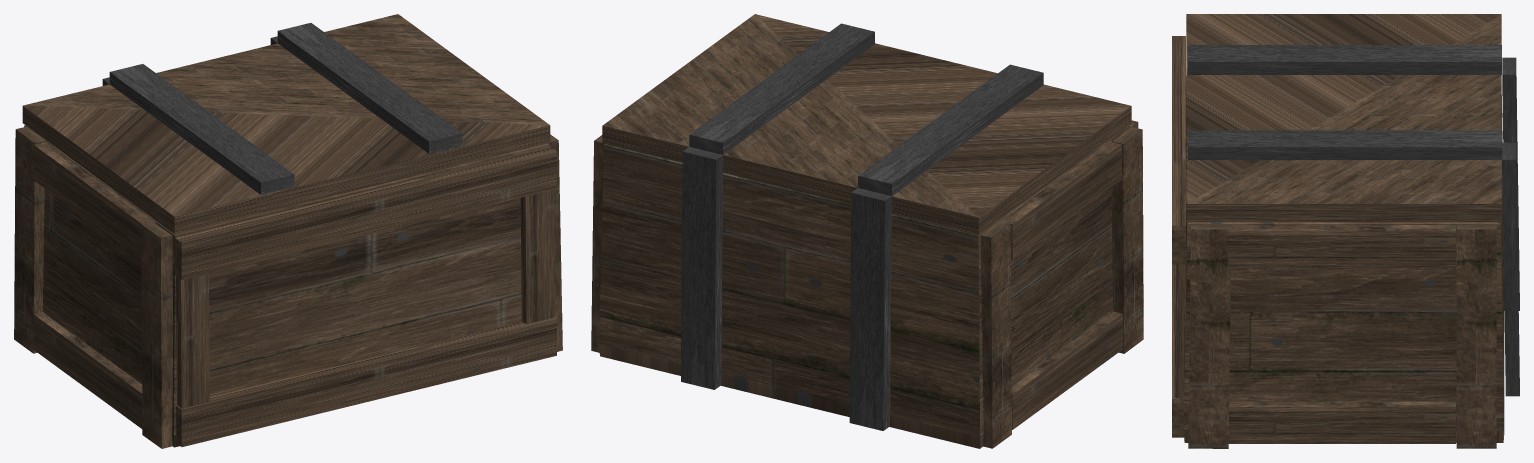
File: wooden_box.Unity.fbx
The picture shows the model from 3 angles, left to right: view 1: azimuth 30°, elevation 25°; view 2: azimuth 150°, elevation 25°; view 3: azimuth 270°, elevation 25°; orthographic projection. The views are drawn at different scales.
Parts seen in each view (by area): view 1: box, Lid, frontHinge1, frontHinge2, topHinge2, topHinge1, leftHinge2, leftHinge1, leftHinge3, leftHinge4, frontHinge3, frontHinge4 (+1 smaller); view 2: box, Lid, backHinge1, backHinge2, topHinge1, topHinge2, leftHinge1, leftHinge2, leftHinge3, leftHinge4, rightHinge1; view 3: Lid, box, rightHinge3, rightHinge4, topHinge2, topHinge1, rightHinge1, rightHinge2, backHinge2, frontHinge1, backHinge1, frontHinge4 (+1 smaller).
Boxes of the visible parts, x1=… form: box: x1=24, y1=125, x2=548, y2=447; Lid: x1=22, y1=14, x2=550, y2=234; frontHinge1: x1=175, y1=146, x2=556, y2=280; frontHinge2: x1=176, y1=316, x2=556, y2=446; topHinge2: x1=277, y1=23, x2=462, y2=153; topHinge1: x1=109, y1=64, x2=294, y2=194; leftHinge2: x1=141, y1=221, x2=172, y2=448; leftHinge1: x1=14, y1=126, x2=45, y2=353; leftHinge3: x1=33, y1=142, x2=155, y2=258; leftHinge4: x1=33, y1=312, x2=142, y2=428; frontHinge3: x1=176, y1=274, x2=209, y2=408; frontHinge4: x1=520, y1=189, x2=554, y2=324; box: x1=599, y1=125, x2=1130, y2=448; Lid: x1=602, y1=14, x2=1131, y2=234; backHinge1: x1=849, y1=188, x2=891, y2=430; backHinge2: x1=681, y1=147, x2=722, y2=389; topHinge1: x1=858, y1=64, x2=1043, y2=195; topHinge2: x1=689, y1=23, x2=874, y2=154; leftHinge1: x1=980, y1=221, x2=1011, y2=448; leftHinge2: x1=1111, y1=126, x2=1143, y2=353; leftHinge3: x1=1001, y1=141, x2=1122, y2=259; leftHinge4: x1=1011, y1=311, x2=1122, y2=429; rightHinge1: x1=591, y1=135, x2=604, y2=352; Lid: x1=1186, y1=14, x2=1501, y2=222; box: x1=1183, y1=95, x2=1504, y2=442; rightHinge3: x1=1228, y1=225, x2=1455, y2=267; rightHinge4: x1=1228, y1=401, x2=1455, y2=443; topHinge2: x1=1188, y1=130, x2=1502, y2=159; topHinge1: x1=1188, y1=45, x2=1501, y2=74; rightHinge1: x1=1456, y1=224, x2=1496, y2=448; rightHinge2: x1=1188, y1=223, x2=1231, y2=448; backHinge2: x1=1502, y1=142, x2=1519, y2=396; frontHinge1: x1=1172, y1=36, x2=1185, y2=264; backHinge1: x1=1502, y1=57, x2=1519, y2=310; frontHinge4: x1=1174, y1=250, x2=1186, y2=397.
Size of the model in its own units: 71.65 by 41.29 by 51.81.
18 materials, 18 textured.
